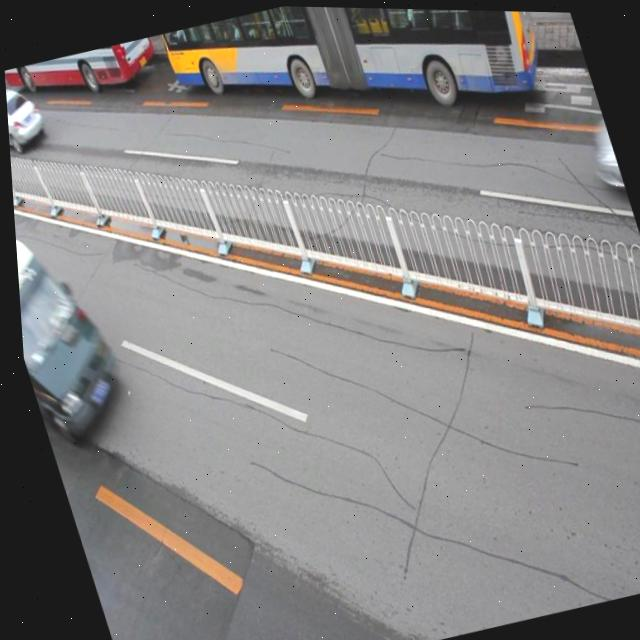car: (579, 108, 623, 191), (4, 81, 48, 160)
truck: (10, 198, 128, 439)
van: (157, 3, 557, 172), (2, 33, 162, 109)
